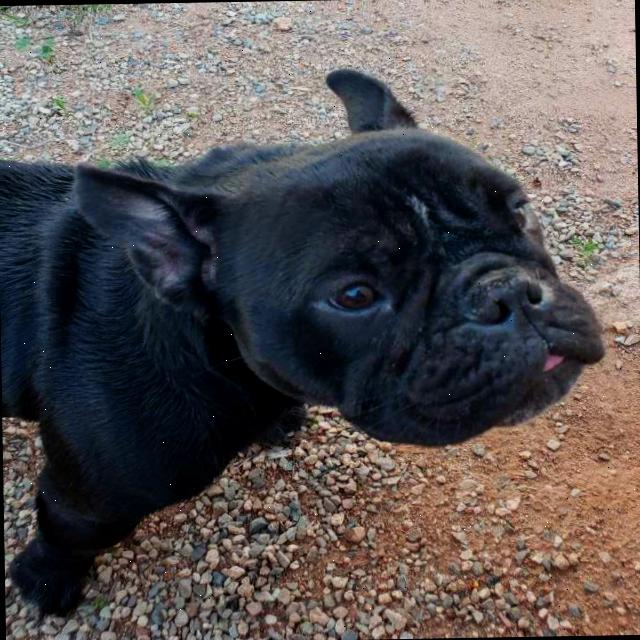french_bulldog_dog: (56, 55, 609, 471)
